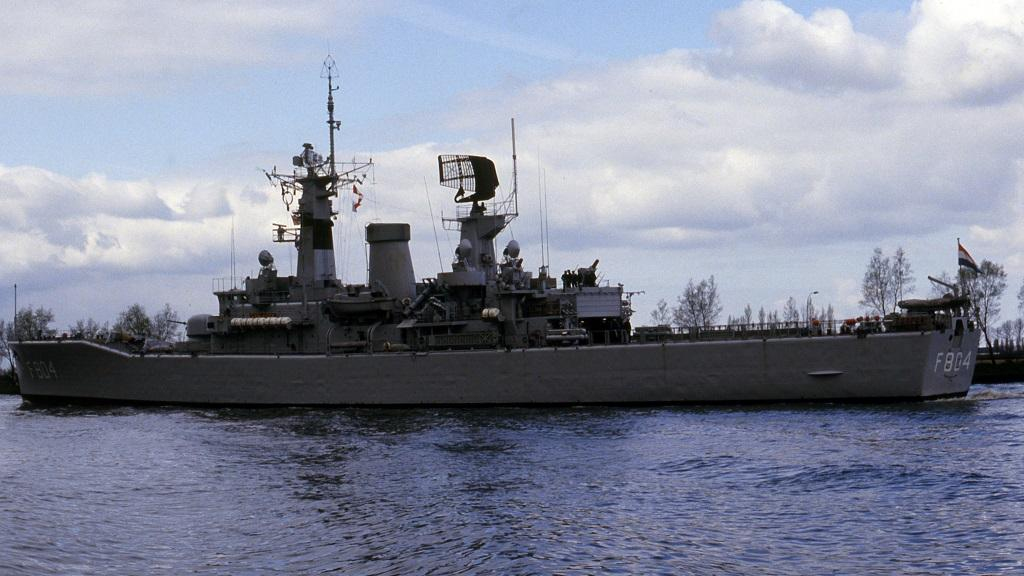Warship: (4, 81, 988, 421)
